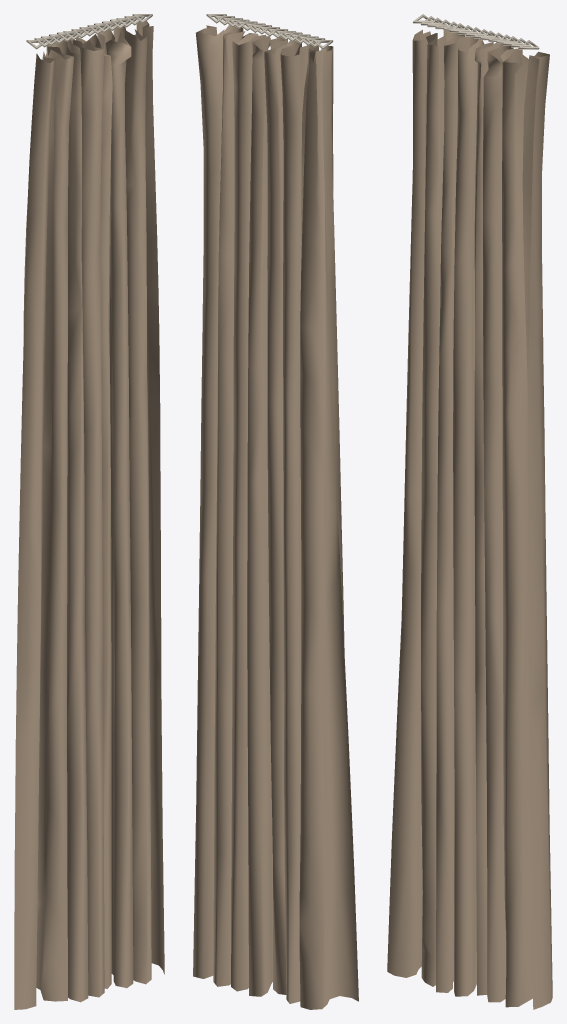
File: curtain_rings_w100_g30_40_lod0.glb
3 views of the same model, side by side, from view 1: azimuth 30°, elevation 25°; view 2: azimuth 150°, elevation 25°; view 3: azimuth 330°, elevation 25° (orthographic).
Parts seen in each view (by area): view 1: curtain_rings_g30_40_lod0_fabric, curtain_rings_g30_40_lod0_rings; view 2: curtain_rings_g30_40_lod0_fabric, curtain_rings_g30_40_lod0_rings; view 3: curtain_rings_g30_40_lod0_fabric, curtain_rings_g30_40_lod0_rings.
Boxes of the visible parts, x1=… form: curtain_rings_g30_40_lod0_fabric: x1=14, y1=21, x2=164, y2=1009; curtain_rings_g30_40_lod0_rings: x1=26, y1=14, x2=152, y2=49; curtain_rings_g30_40_lod0_fabric: x1=193, y1=24, x2=358, y2=1009; curtain_rings_g30_40_lod0_rings: x1=206, y1=14, x2=333, y2=49; curtain_rings_g30_40_lod0_fabric: x1=387, y1=29, x2=552, y2=1009; curtain_rings_g30_40_lod0_rings: x1=413, y1=14, x2=539, y2=49.
Size of the model in its own units: 0.4297 by 2.54 by 0.145.
